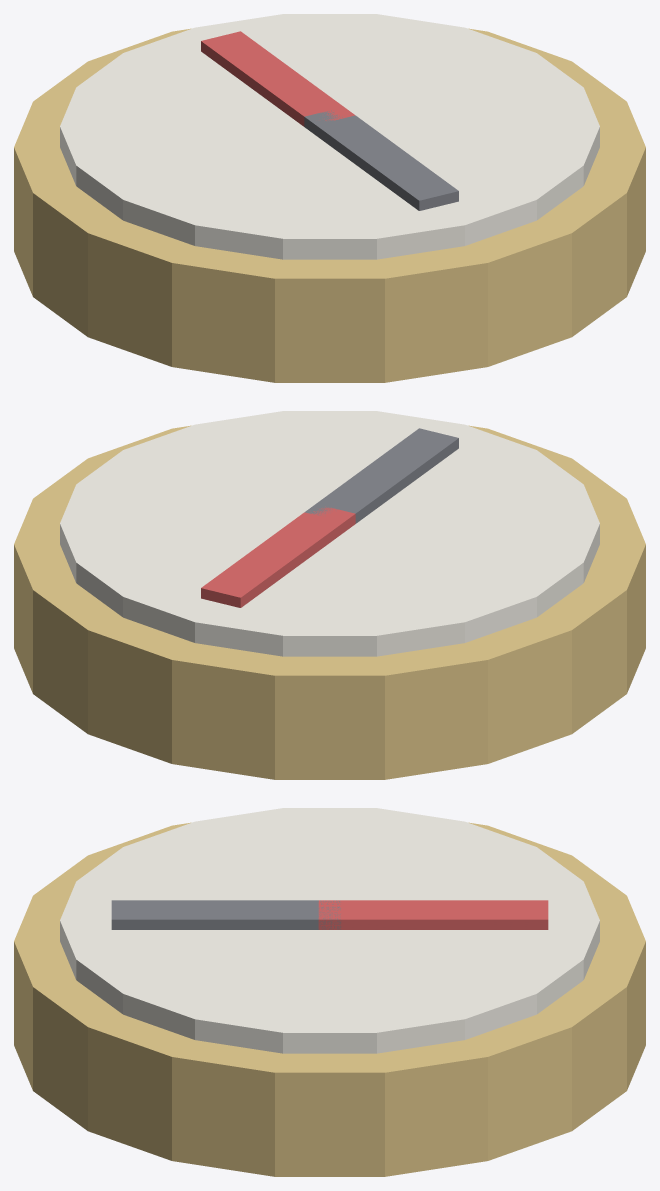
The model's file is compass_held.gltf.
3 views of the same model, one above another, from view 1: azimuth 30°, elevation 25°; view 2: azimuth 150°, elevation 25°; view 3: azimuth 270°, elevation 25° (orthographic).
Visible parts, largest first — view 1: maps_compass_held; view 2: maps_compass_held; view 3: maps_compass_held.
Boxes of the visible parts, box(x1,y1,x2,y2) form: maps_compass_held: box(14, 14, 645, 382); maps_compass_held: box(14, 411, 645, 779); maps_compass_held: box(14, 808, 645, 1176).
Size of the model in its own units: 0.1083 by 0.026 by 0.11.
